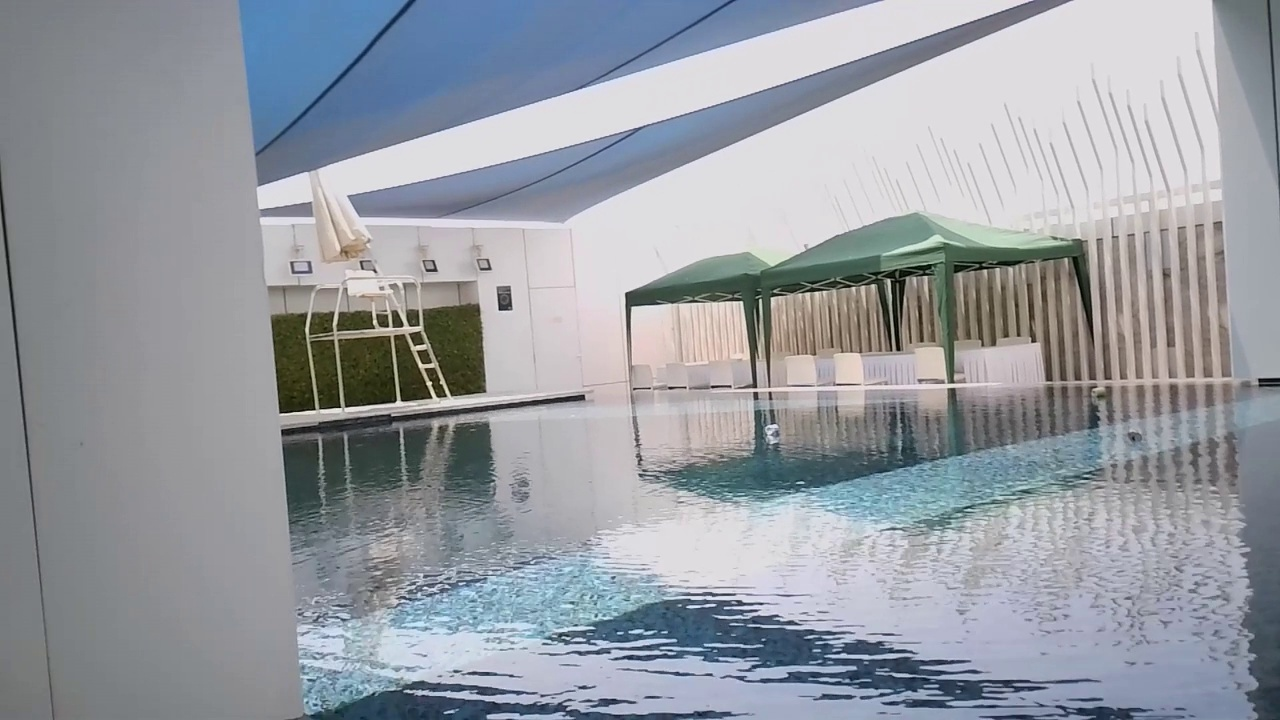debris: (1124, 421, 1142, 448), (1088, 384, 1110, 400), (762, 422, 781, 437)
